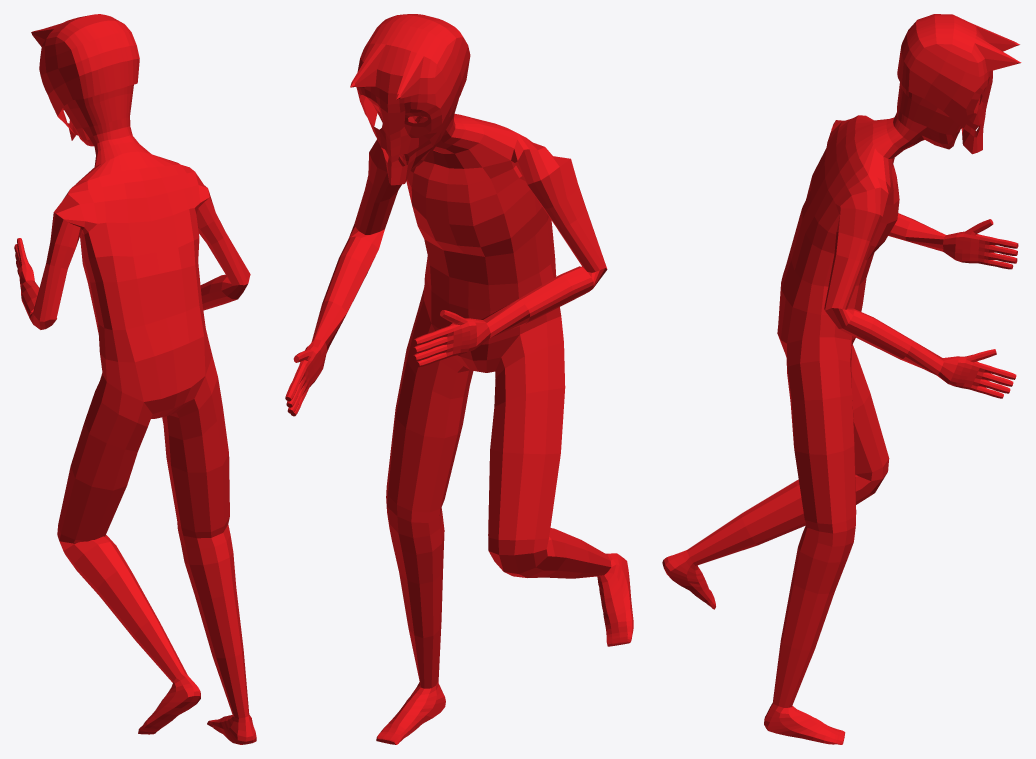
File: correrE_000112.obj
The picture shows the model from 3 angles, left to right: view 1: azimuth 30°, elevation 25°; view 2: azimuth 150°, elevation 25°; view 3: azimuth 270°, elevation 25°; orthographic projection. The views are drawn at different scales.
Parts seen in each view (by area): view 1: Plane.002_Plane.001; view 2: Plane.002_Plane.001; view 3: Plane.002_Plane.001.
Part boxes in pixels (x1,y1,x2,y2): Plane.002_Plane.001: (14, 14, 256, 744); Plane.002_Plane.001: (285, 14, 633, 744); Plane.002_Plane.001: (662, 14, 1021, 744).
Size of the model in its own units: 2.24 by 6.75 by 3.22.
